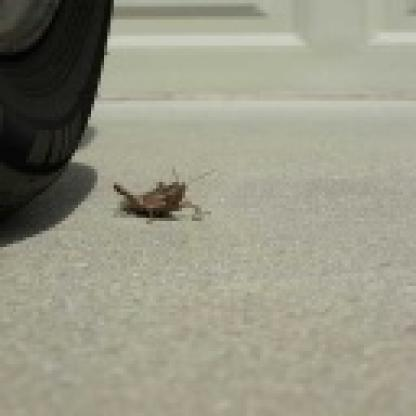grasshopper: (108, 164, 228, 228)
